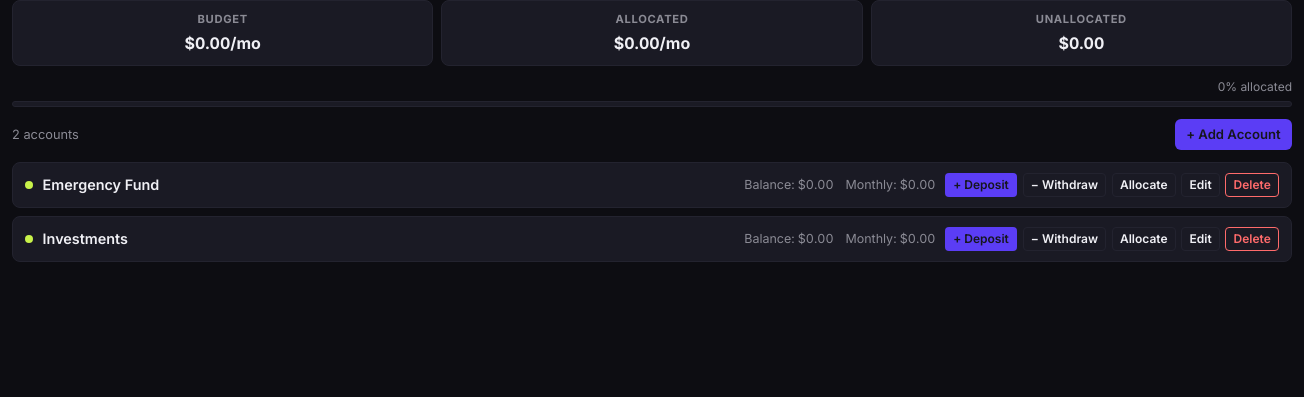
Test case: Savings — RS-13 inline deposit/withdraw › clicking "− Withdraw" reveals inline form with --withdraw class
Click the button "− Withdraw" in the row of "Emergency Fund": [1064, 185] box [1023,173,1106,198]
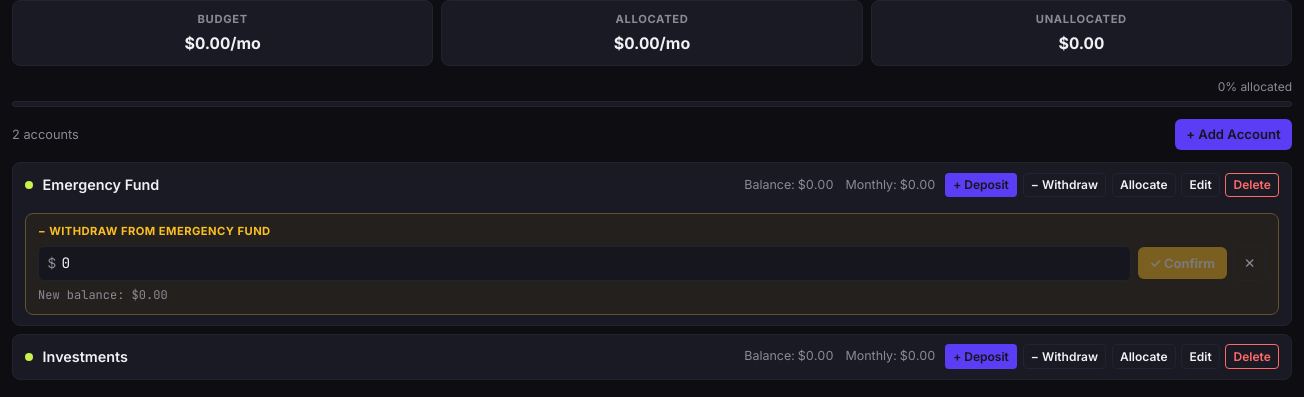
Check: the element with class "savings-inline-form--withdraw" is shown, box [25,213,1279,315]
